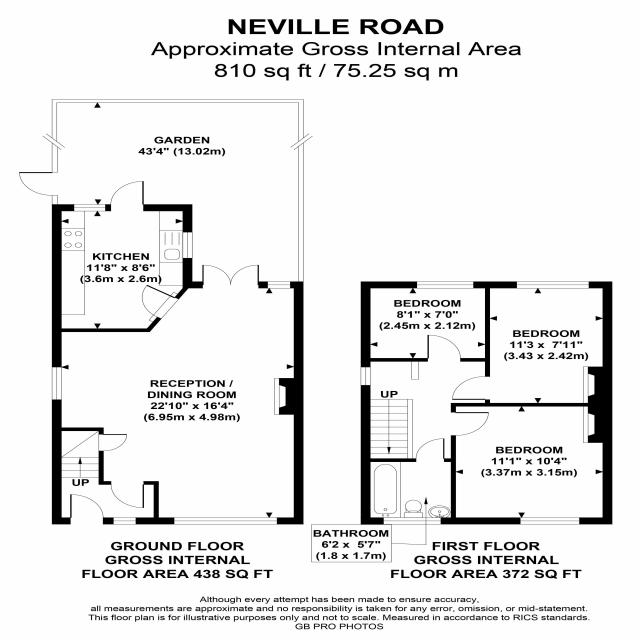DOOR: (140, 283, 180, 320), (68, 493, 105, 525), (109, 180, 145, 212), (426, 333, 463, 363), (450, 374, 491, 401), (450, 411, 490, 437), (109, 481, 145, 509), (414, 437, 446, 463), (98, 434, 128, 453)
DOUBLE DOOR: (201, 264, 260, 287)
ROOM: (51, 264, 305, 525), (51, 180, 193, 332), (450, 281, 613, 407), (450, 403, 613, 525), (360, 281, 490, 362)
WINDOW: (173, 517, 279, 525), (515, 281, 591, 289), (519, 516, 581, 525), (382, 516, 443, 525), (415, 281, 476, 289), (51, 366, 63, 401), (73, 203, 107, 212), (182, 232, 193, 259), (360, 366, 372, 387), (112, 517, 137, 525), (267, 281, 291, 289)
